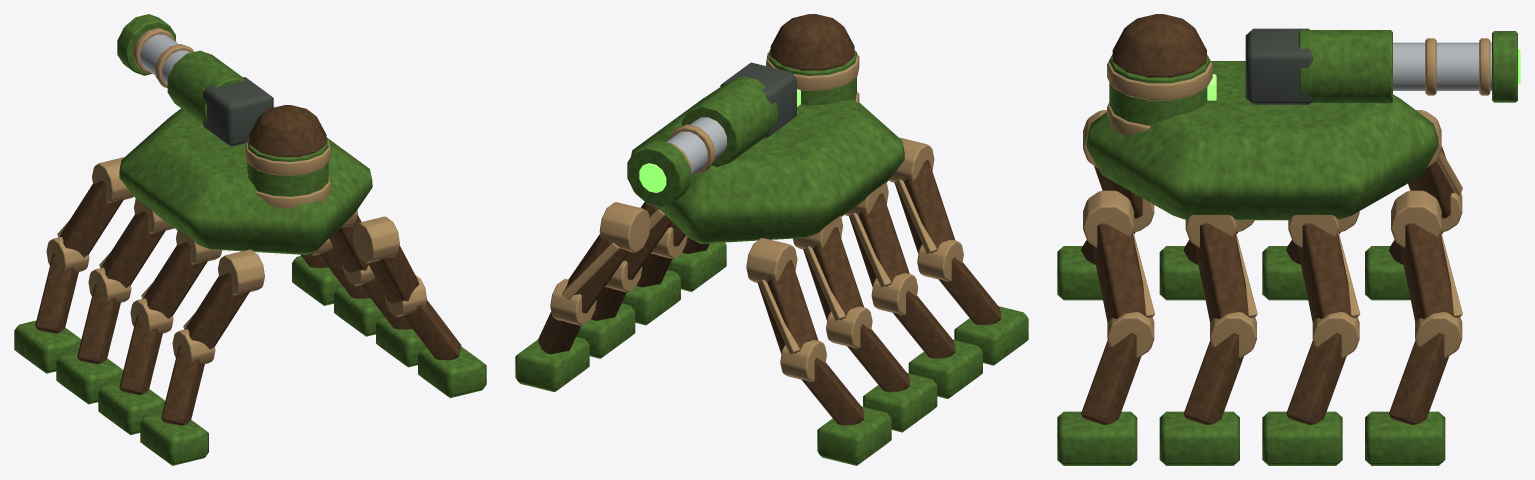
File: vael_mygale.gltf
3 views of the same model, side by side, from view 1: azimuth 30°, elevation 25°; view 2: azimuth 150°, elevation 25°; view 3: azimuth 270°, elevation 25° (orthographic). The views are drawn at different scales.
Visible parts, largest first — view 1: Body.001_Geometry, GunRecoil.010_Geometry, Hip_L0.001_Geometry, Hip_L3_Geometry, Hip_R0.001_Geometry, GunPitch.014_Geometry, Hip_L1.001_Geometry, Knee_L2.001_Geometry, Knee_L3_Geometry, Knee_L0.001_Geometry, Knee_L1.001_Geometry, Hip_L2.001_Geometry (+12 smaller); view 2: Body.001_Geometry, GunRecoil.010_Geometry, Hip_L3_Geometry, Hip_R3_Geometry, Hip_L0.001_Geometry, Hip_L2.001_Geometry, Hip_L1.001_Geometry, Knee_L3_Geometry, Knee_L1.001_Geometry, Knee_L2.001_Geometry, Knee_L0.001_Geometry, Foot_L3_Geometry (+12 smaller); view 3: Body.001_Geometry, GunRecoil.010_Geometry, Hip_R0.001_Geometry, Hip_R3_Geometry, Hip_R1.001_Geometry, Hip_R2.001_Geometry, Knee_R0.001_Geometry, Knee_R2.001_Geometry, Knee_R3_Geometry, Knee_R1.001_Geometry, GunPitch.014_Geometry, Foot_R0.001_Geometry (+11 smaller).
Boxes of the visible parts, x1,y1,x2,y2 form: Body.001_Geometry: (119,105,372,254); GunRecoil.010_Geometry: (117,14,244,123); Hip_L0.001_Geometry: (183,249,264,349); Hip_L3_Geometry: (57,157,133,257); Hip_R0.001_Geometry: (352,216,419,303); GunPitch.014_Geometry: (203,77,273,146); Hip_L1.001_Geometry: (141,229,221,318); Knee_L2.001_Geometry: (77,267,131,364); Knee_L3_Geometry: (35,237,89,333); Knee_L0.001_Geometry: (161,329,215,425); Knee_L1.001_Geometry: (119,298,173,394); Hip_L2.001_Geometry: (99,198,174,288); Body.001_Geometry: (631,14,904,243); GunRecoil.010_Geometry: (627,76,777,206); Hip_L3_Geometry: (746,238,818,354); Hip_R3_Geometry: (562,202,650,313); Hip_L0.001_Geometry: (888,137,954,254); Hip_L2.001_Geometry: (793,215,863,321); Hip_L1.001_Geometry: (844,182,909,287); Knee_L3_Geometry: (780,340,864,425); Knee_L1.001_Geometry: (871,273,955,358); Knee_L2.001_Geometry: (826,306,909,391); Knee_L0.001_Geometry: (917,240,1001,324); Foot_L3_Geometry: (817,406,891,465); Body.001_Geometry: (1086,14,1438,220); GunRecoil.010_Geometry: (1299,30,1520,103); Hip_R0.001_Geometry: (1083,190,1154,322); Hip_R3_Geometry: (1391,190,1462,322); Hip_R1.001_Geometry: (1185,215,1257,322); Hip_R2.001_Geometry: (1288,215,1360,322); Knee_R0.001_Geometry: (1081,312,1154,424); Knee_R2.001_Geometry: (1286,312,1359,424); Knee_R3_Geometry: (1389,312,1462,424); Knee_R1.001_Geometry: (1183,312,1256,424); GunPitch.014_Geometry: (1245,28,1313,104); Foot_R0.001_Geometry: (1057,411,1137,465).
Bounding box in the file's own units: 2.41 × 2.1 × 2.48.
6 materials, 2 textured.
